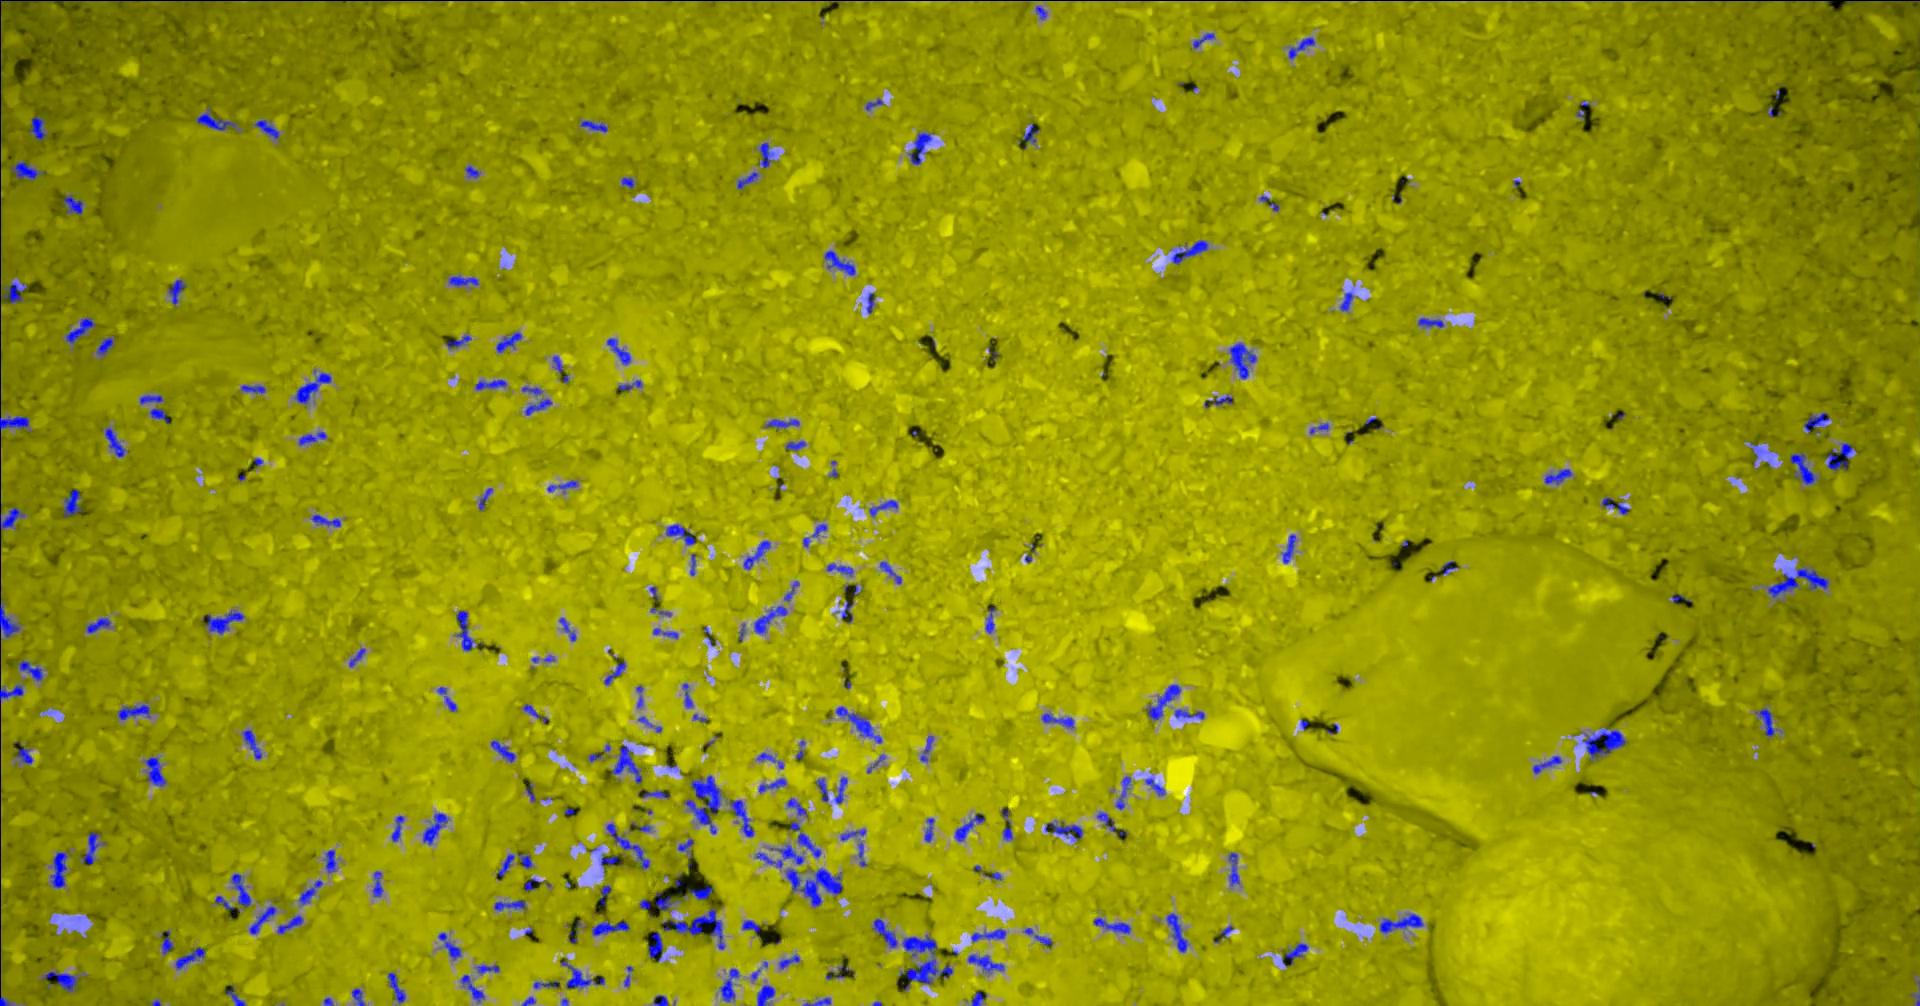ant: (902, 934, 954, 989), (663, 907, 726, 949), (787, 868, 844, 906), (686, 775, 723, 833), (608, 823, 651, 869), (1769, 567, 1830, 597), (837, 706, 883, 743), (1583, 727, 1627, 760), (216, 873, 251, 911), (1149, 683, 1182, 720), (790, 821, 823, 857), (563, 960, 606, 988), (296, 372, 333, 403), (612, 746, 643, 782), (1230, 342, 1258, 379), (204, 610, 246, 634), (1, 0, 86, 11), (198, 107, 239, 130), (756, 605, 789, 633), (498, 854, 533, 879), (731, 799, 756, 836), (1790, 452, 1818, 484), (1382, 913, 1425, 934), (1173, 239, 1209, 263), (1827, 442, 1857, 470), (956, 813, 985, 841), (825, 250, 857, 276), (424, 812, 450, 843), (1, 597, 22, 636), (745, 540, 772, 569), (250, 904, 277, 934), (1168, 913, 1189, 951), (67, 318, 97, 343), (874, 918, 899, 948), (910, 132, 933, 164), (44, 970, 80, 991), (1757, 708, 1783, 735), (1, 503, 25, 532), (771, 843, 805, 864), (177, 946, 207, 969), (11, 160, 47, 179), (1046, 822, 1084, 840), (608, 337, 632, 365), (969, 954, 1006, 972), (439, 932, 463, 959), (462, 974, 486, 1001), (105, 427, 127, 456), (83, 831, 102, 864), (389, 972, 408, 1005), (458, 610, 474, 650), (52, 851, 69, 888), (1095, 917, 1131, 934), (1, 282, 29, 304), (147, 757, 168, 786), (723, 968, 740, 1001), (300, 880, 324, 904), (667, 525, 697, 544), (1284, 942, 1309, 965), (63, 488, 83, 517), (244, 729, 263, 758), (1534, 754, 1563, 774), (1023, 927, 1053, 946), (1290, 37, 1316, 58), (1804, 412, 1830, 433), (491, 741, 517, 762), (119, 702, 152, 719), (497, 332, 523, 352), (593, 921, 631, 935), (524, 702, 550, 723), (657, 890, 683, 909), (1043, 713, 1076, 728), (1603, 497, 1630, 514), (971, 929, 1007, 942), (606, 661, 627, 683), (19, 661, 44, 680), (439, 686, 458, 711), (1, 415, 30, 432), (526, 398, 552, 415), (881, 561, 903, 583), (554, 354, 570, 382), (1545, 467, 1573, 484), (871, 499, 899, 516), (1117, 776, 1131, 809), (257, 119, 281, 138), (1, 683, 25, 702), (279, 915, 303, 934), (679, 838, 695, 868), (649, 932, 664, 962), (758, 752, 785, 768), (227, 984, 248, 1005), (602, 854, 623, 873), (757, 852, 783, 868), (30, 116, 47, 140), (170, 279, 187, 304), (767, 418, 801, 429), (300, 431, 328, 445), (759, 779, 787, 793), (63, 194, 84, 213), (549, 479, 579, 492), (1098, 810, 1117, 831), (827, 964, 852, 979), (1194, 32, 1217, 48), (1003, 807, 1015, 840), (836, 776, 850, 803), (1284, 533, 1297, 563), (759, 142, 775, 166), (561, 617, 577, 641), (88, 617, 112, 633), (758, 984, 776, 1005), (738, 171, 759, 188), (447, 334, 472, 348), (1206, 394, 1234, 406), (921, 735, 935, 761), (524, 878, 552, 890), (690, 885, 715, 899), (1230, 852, 1241, 887), (828, 563, 855, 575), (1147, 777, 1166, 795), (789, 798, 808, 815), (312, 514, 342, 526), (392, 815, 405, 841), (495, 899, 527, 909), (582, 119, 610, 131), (480, 486, 494, 509), (817, 779, 830, 801), (1023, 123, 1040, 142), (350, 647, 367, 666), (743, 920, 762, 936), (476, 379, 507, 389), (151, 408, 171, 423), (1176, 709, 1206, 719), (780, 954, 801, 968), (98, 337, 114, 354), (17, 747, 34, 763), (842, 828, 867, 840), (163, 930, 175, 953), (450, 276, 481, 285), (618, 379, 643, 390), (987, 606, 997, 633), (1341, 291, 1355, 310), (843, 600, 855, 622), (570, 920, 582, 942), (1439, 560, 1459, 573), (654, 627, 679, 638), (684, 682, 695, 708), (926, 817, 936, 842), (858, 842, 869, 866), (477, 964, 502, 974), (1418, 318, 1445, 326), (973, 989, 988, 1005), (601, 885, 612, 904), (243, 384, 267, 392), (328, 848, 337, 873), (375, 871, 383, 895), (804, 997, 832, 1005), (353, 988, 366, 1005), (787, 439, 808, 450), (655, 995, 676, 1005), (141, 394, 164, 403), (639, 790, 670, 796), (535, 981, 560, 988), (523, 386, 543, 395), (466, 165, 481, 177), (869, 292, 876, 312), (622, 177, 635, 188), (1, 58, 3, 114)
